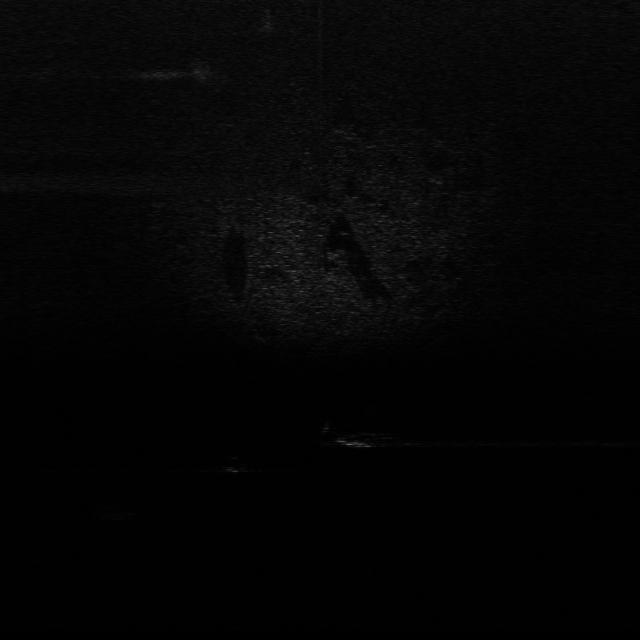ball: (222, 456, 250, 474)
circle cage: (84, 502, 140, 522)
human body: (317, 421, 409, 452)
